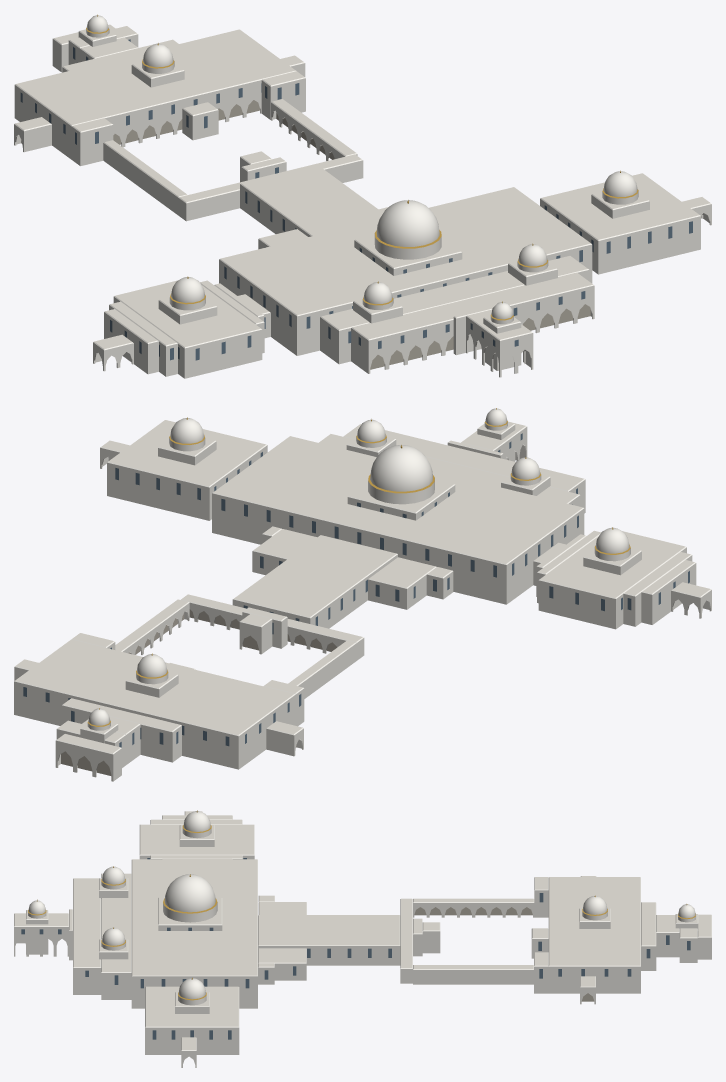
Rendered from abu-dhabi-qasr-al-watan.glb.
3 renders of one model, top to bottom at view 1: azimuth 30°, elevation 25°; view 2: azimuth 150°, elevation 25°; view 3: azimuth 270°, elevation 25°, orthographic. The views are drawn at different scales.
Parts seen in each view (by area): view 1: Qasr Al Watan; view 2: Qasr Al Watan; view 3: Qasr Al Watan.
Boxes of the visible parts, <box> form: Qasr Al Watan: <box>14,14,711,378</box>; Qasr Al Watan: <box>14,408,711,781</box>; Qasr Al Watan: <box>14,810,711,1067</box>.
Bounding box in the file's own units: 407 × 60.6 × 502.
